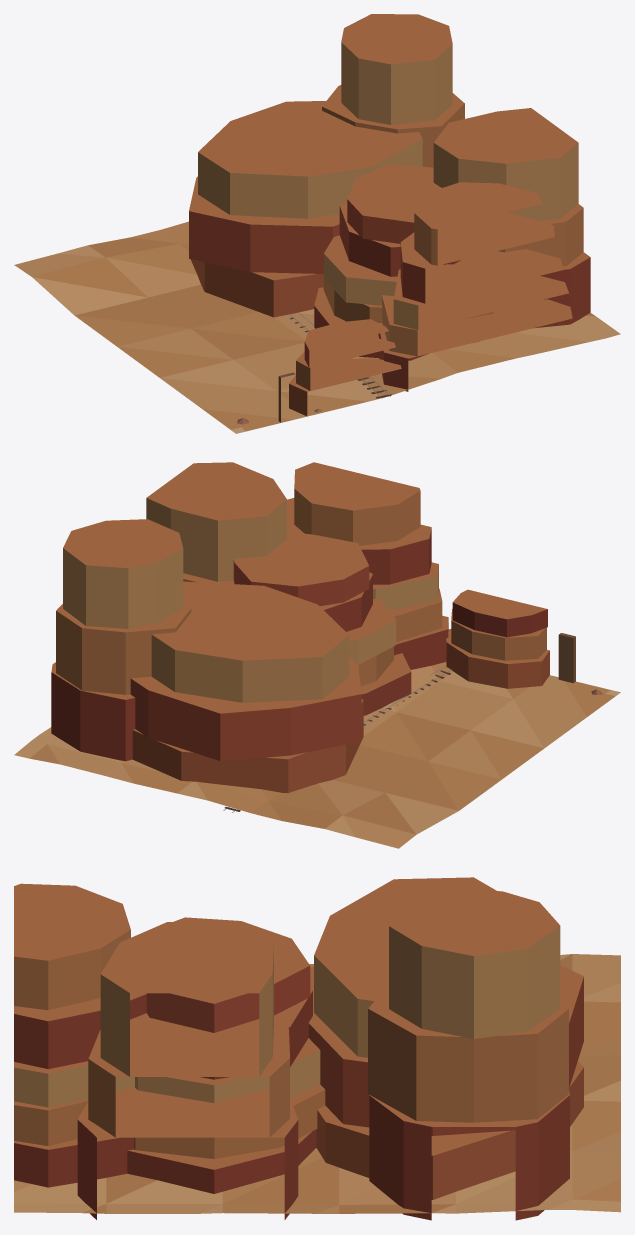
The picture shows the model from 3 angles, top to bottom: view 1: azimuth 30°, elevation 25°; view 2: azimuth 150°, elevation 25°; view 3: azimuth 270°, elevation 25°; orthographic projection. The views are drawn at different scales.
Visible parts, largest first — view 1: baked; view 2: baked; view 3: baked.
Part boxes in pixels (x1,y1,x2,y2): baked: [14, 14, 620, 433]; baked: [14, 462, 620, 848]; baked: [14, 877, 620, 1220].
Size of the model in its own units: 62.5 by 29.76 by 62.5.
